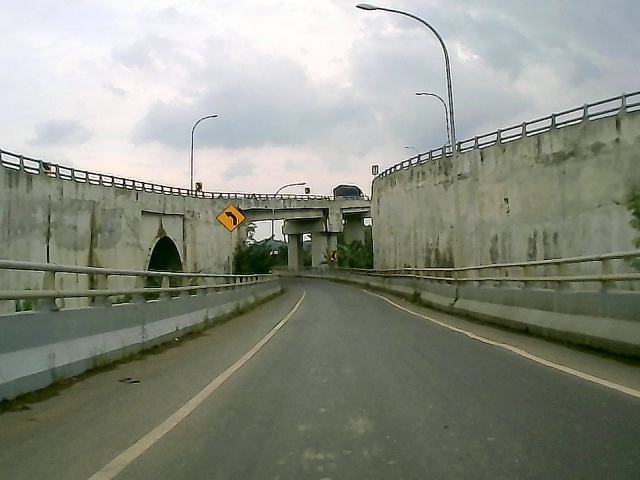Tikungan ke kiri: (214, 204, 247, 234)
